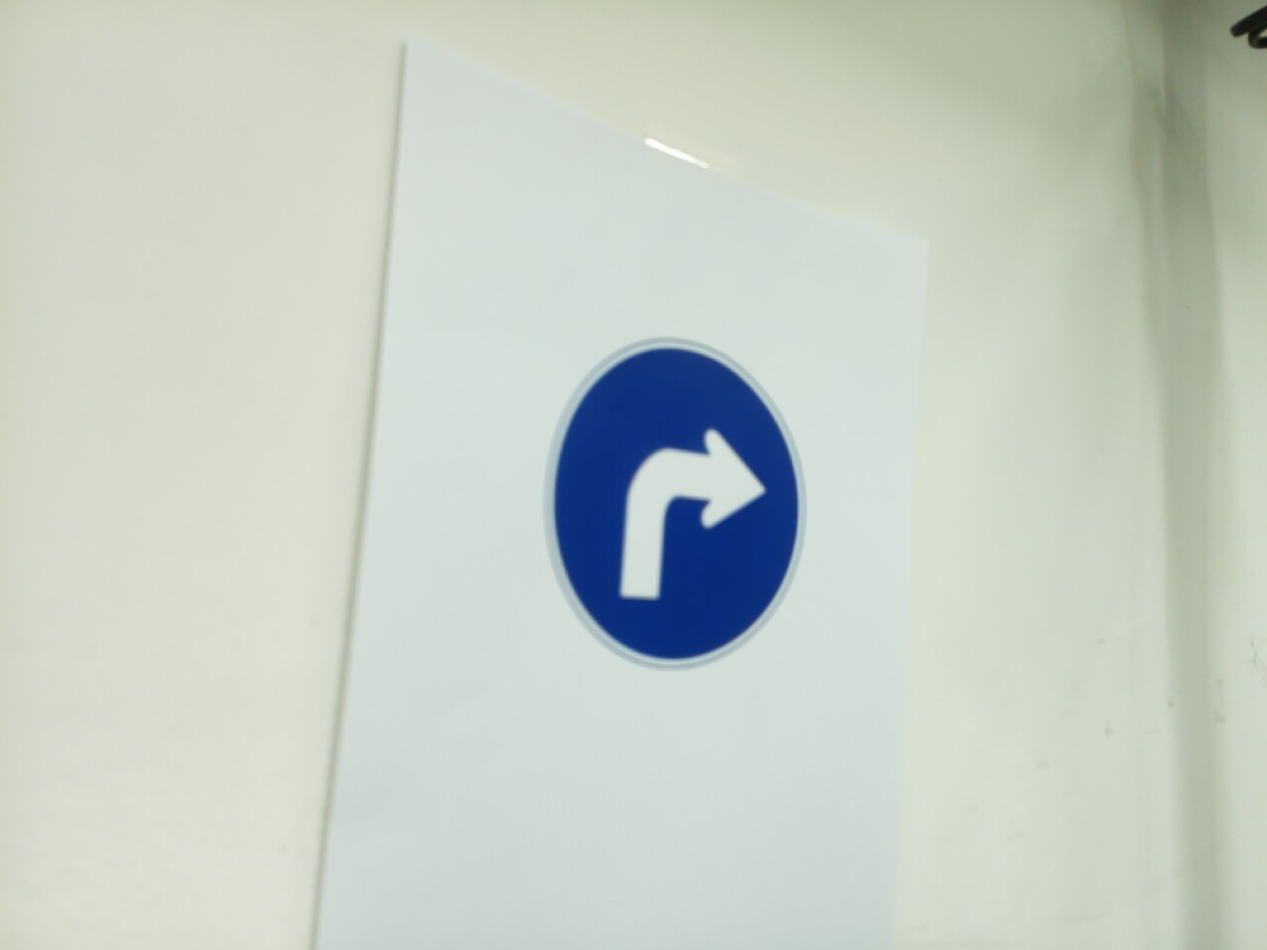right_turn: (545, 338, 808, 669)
